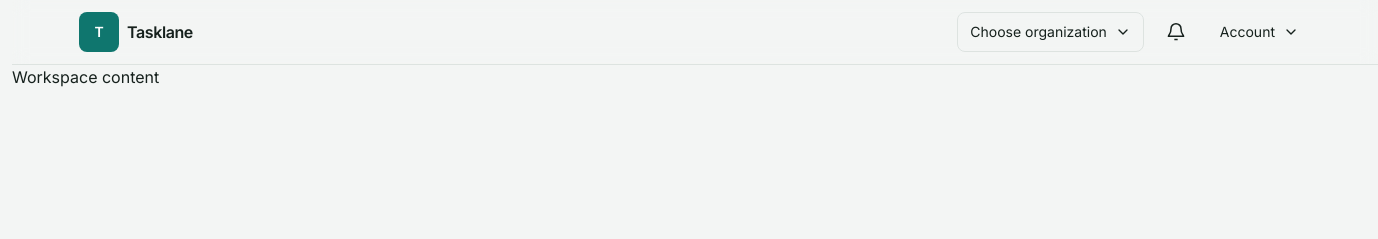
it: frontend user flows › keeps the notifications link separate from the keyboard-accessible user menu
Click the button with aria-label "User menu": [1259, 32] box [1208, 12, 1311, 52]
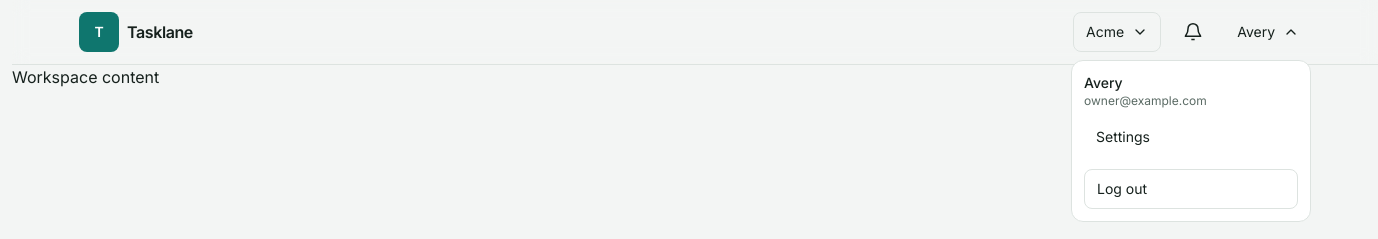
Check: the button with aria-label "User menu" is expanded
Check: the button "Log out" is shown, box [1084, 169, 1298, 209]
Click the button with aria-label "User menu": [1268, 32] box [1225, 12, 1311, 52]
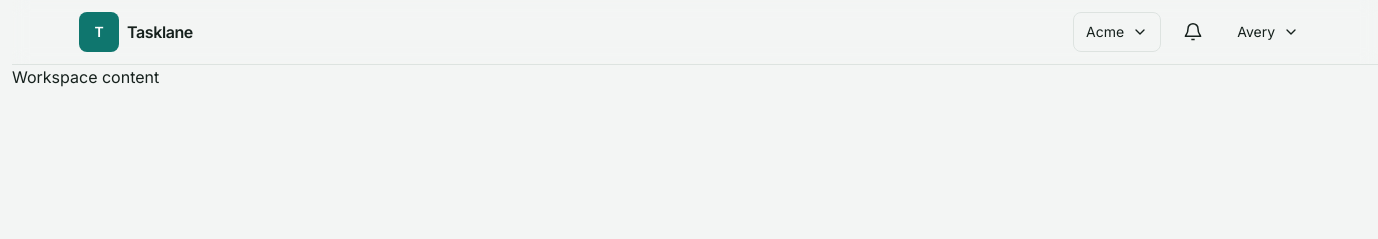
Check: the button with aria-label "User menu" is collapsed
Check: the button "Log out" is gone
Click the button with aria-label "User menu": [1268, 32] box [1225, 12, 1311, 52]
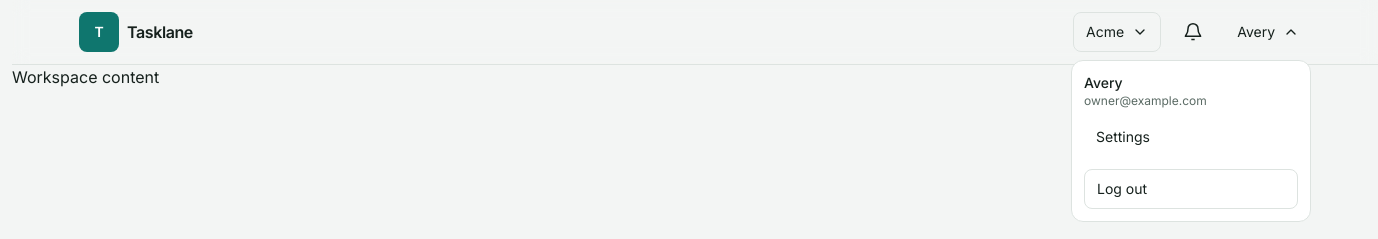
Press Escape
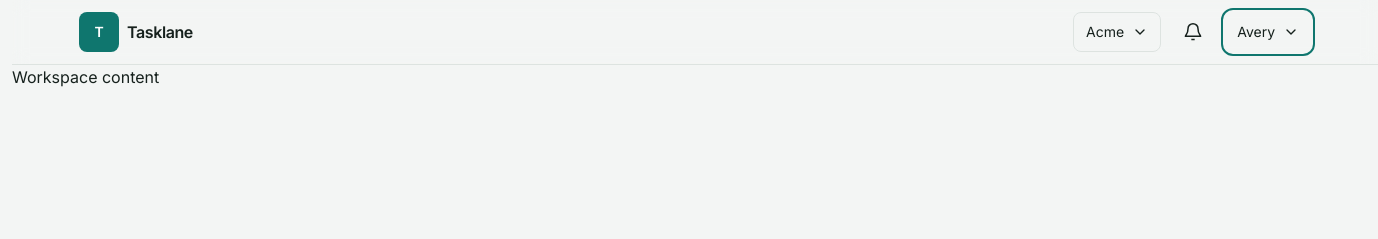
Check: the button with aria-label "User menu" is collapsed
Click the button with aria-label "User menu": [1268, 32] box [1225, 12, 1311, 52]
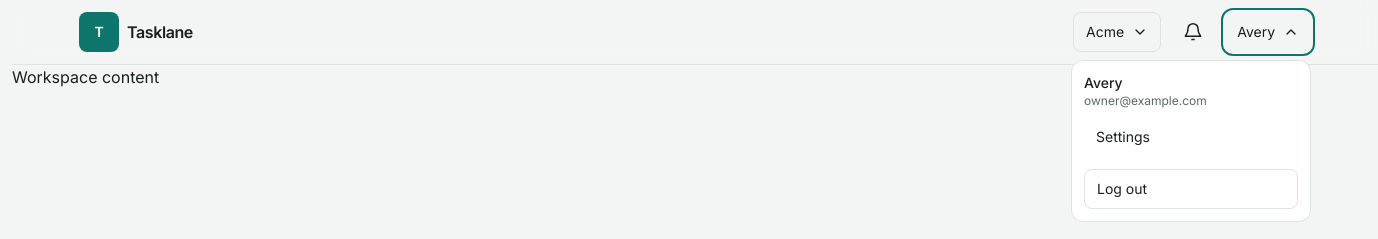
Press the mouse on the text "Workspace content": [86, 77] box [12, 67, 159, 87]
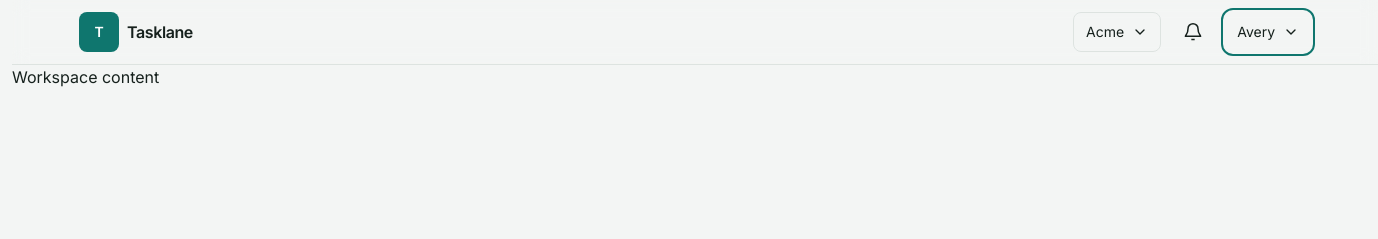
Check: the link named "Notifications" is shown, box [1183, 22, 1203, 42]
Check: the button with aria-label "User menu" is collapsed, box [1225, 12, 1311, 52]
